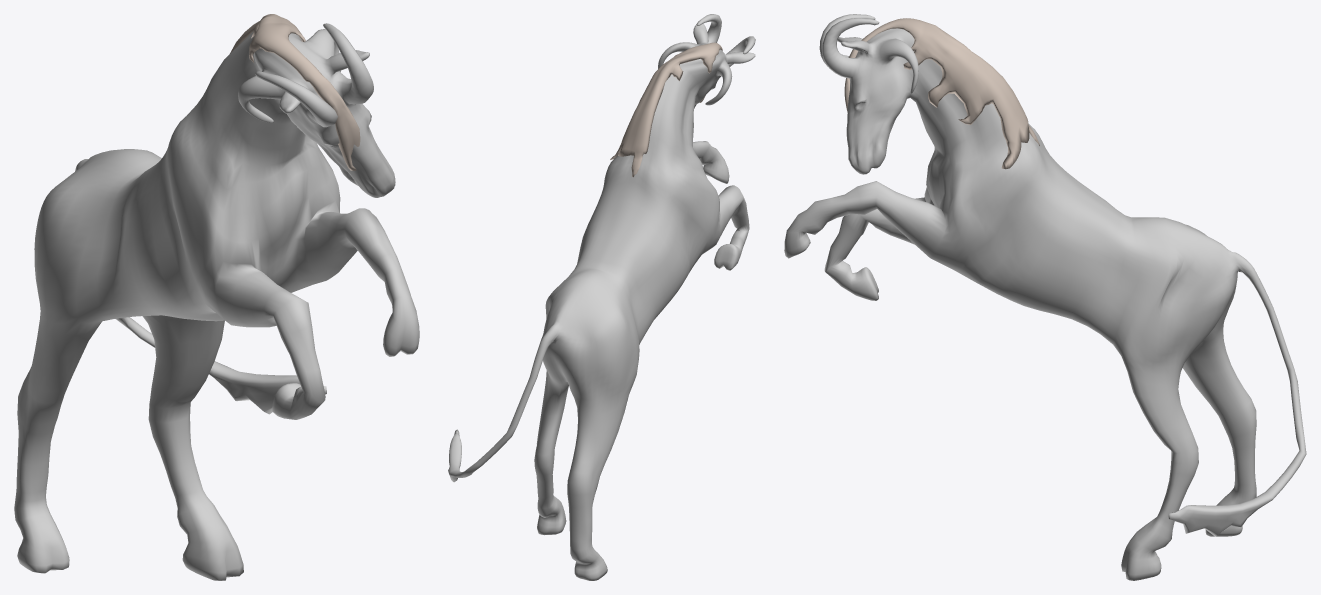
Rendered from Bicorn.obj.
3 views of the same model, side by side, from view 1: azimuth 30°, elevation 25°; view 2: azimuth 150°, elevation 25°; view 3: azimuth 270°, elevation 25° (orthographic). The views are drawn at different scales.
Parts seen in each view (by area): view 1: Cube.001, hair.001; view 2: Cube.001, hair.001; view 3: Cube.001, hair.001.
Part boxes in pixels (x1,y1,x2,y2): Cube.001: (14,23,419,580); hair.001: (230,14,360,170); Cube.001: (448,14,755,580); hair.001: (610,42,722,177); Cube.001: (784,14,1306,580); hair.001: (844,18,1039,169).
Size of the model in its own units: 3.39 by 8.16 by 7.22.
